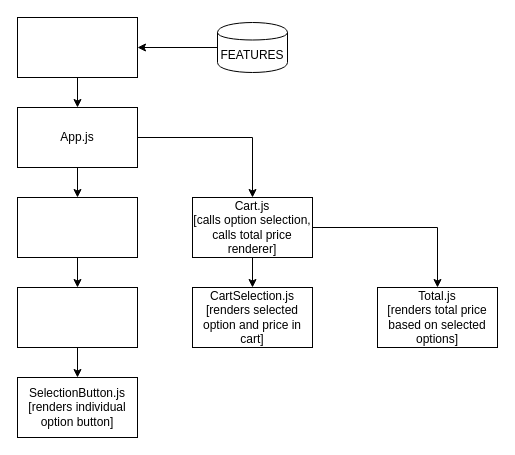
Image size: 515x455. Some labels were removed from this diagram. The shapes that lost their labels are listed below. From the top down, each one's centre as x and y in pixels, then its label:
At point (77, 47): "Index.js".
At point (77, 227): "Customize.js [renders form]".
At point (77, 317): "CustomOption.js [calls and aggregates feature info]".
